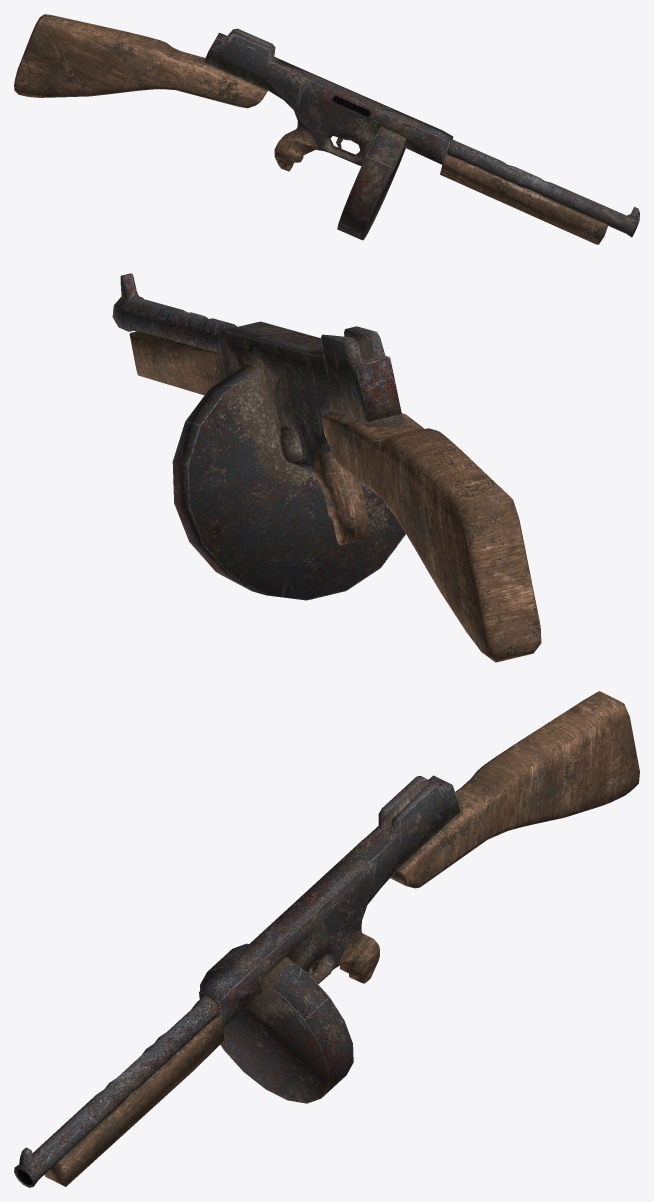
File: Anim_disparar_ametralladora_objetos.0021.obj
3 views of the same model, one above another, from view 1: azimuth 30°, elevation 25°; view 2: azimuth 150°, elevation 25°; view 3: azimuth 270°, elevation 25° (orthographic). The views are drawn at different scales.
Parts seen in each view (by area): view 1: Ametralladora1; view 2: Ametralladora1; view 3: Ametralladora1.
Boxes of the visible parts, x1=… form: Ametralladora1: x1=14, y1=14, x2=639, y2=244; Ametralladora1: x1=112, y1=273, x2=541, y2=662; Ametralladora1: x1=14, y1=691, x2=639, y2=1187.
Size of the model in its own units: 4.59 by 1.96 by 4.21.
